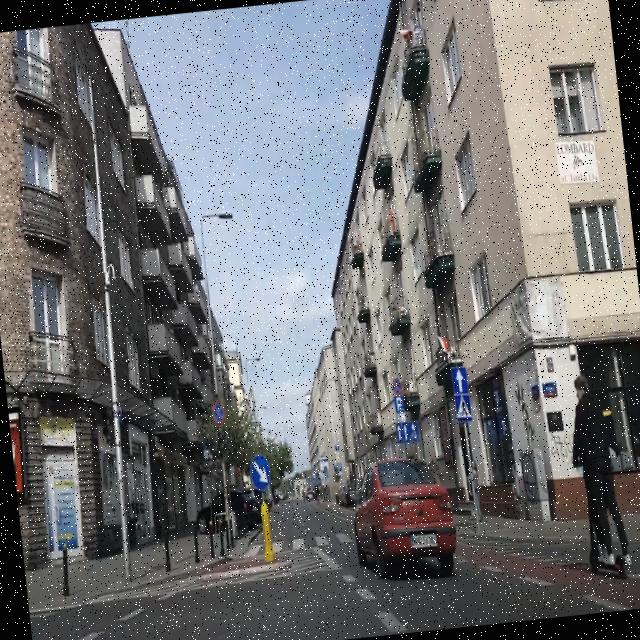Przejscie dla pieszych: (454, 392, 472, 422)
Zakaz zatrzymywania sie: (210, 398, 224, 422), (392, 376, 404, 396)
